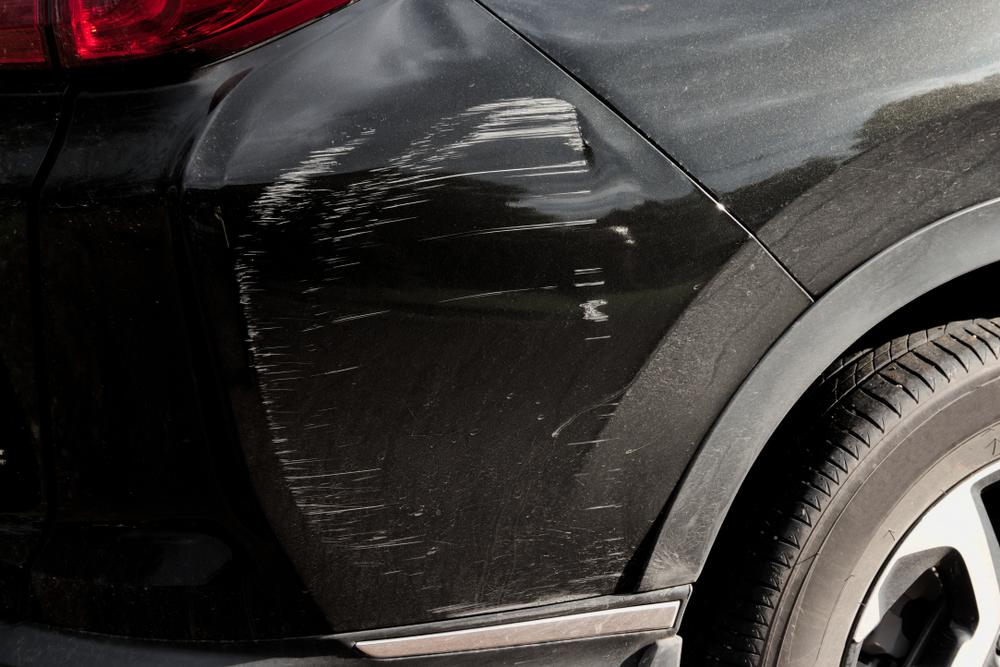dent: (358, 1, 464, 82)
scratch: (234, 85, 626, 624)
